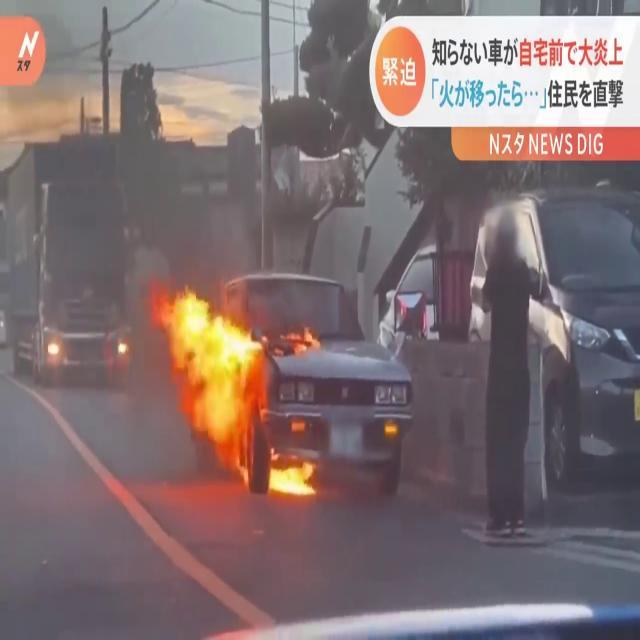Fire: (150, 280, 272, 472), (266, 448, 322, 502), (282, 320, 324, 356)
